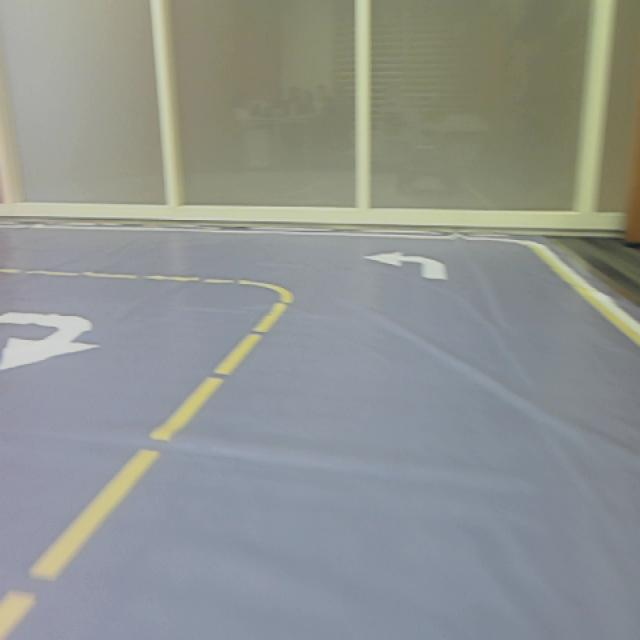left_lane: (0, 296, 294, 640)
right_lane: (533, 248, 640, 347)
